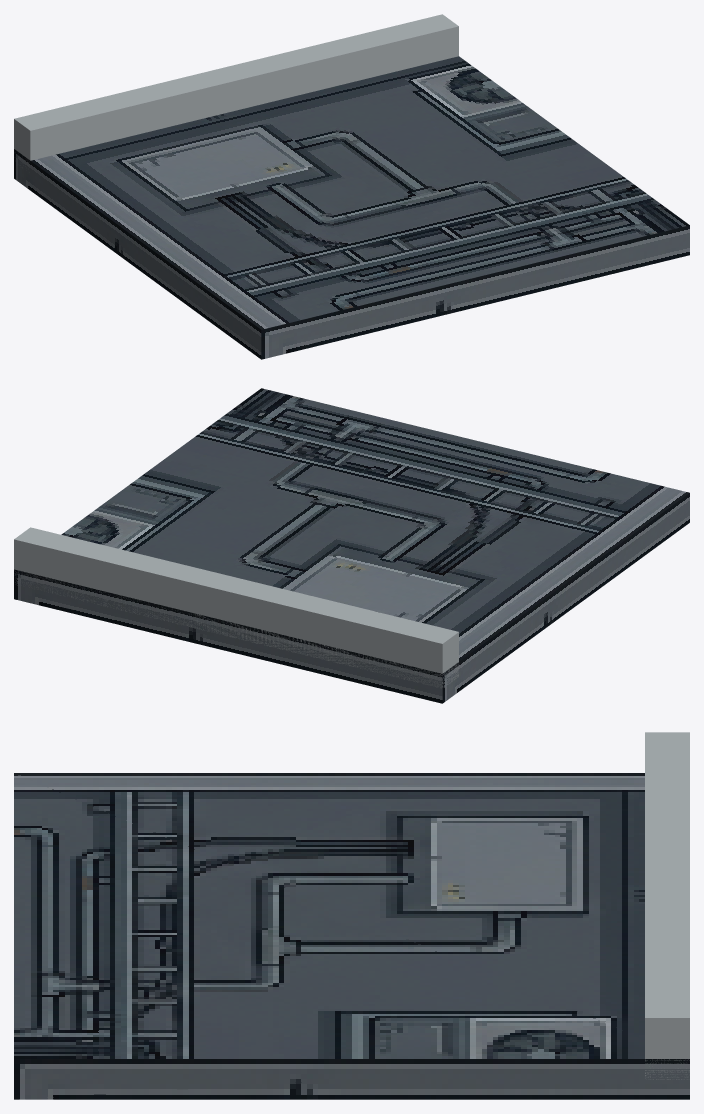
Rendered from module_roof.glb.
The picture shows the model from 3 angles, top to bottom: view 1: azimuth 30°, elevation 25°; view 2: azimuth 150°, elevation 25°; view 3: azimuth 270°, elevation 25°; orthographic projection. The views are drawn at different scales.
Parts seen in each view (by area): view 1: module_roof; view 2: module_roof; view 3: module_roof.
Boxes of the visible parts, x1,y1,x2,y2 form: module_roof: [14, 14, 689, 359]; module_roof: [14, 388, 689, 703]; module_roof: [14, 732, 689, 1099].
Size of the model in its own units: 3 by 0.4 by 3.
2 materials, 1 textured.
